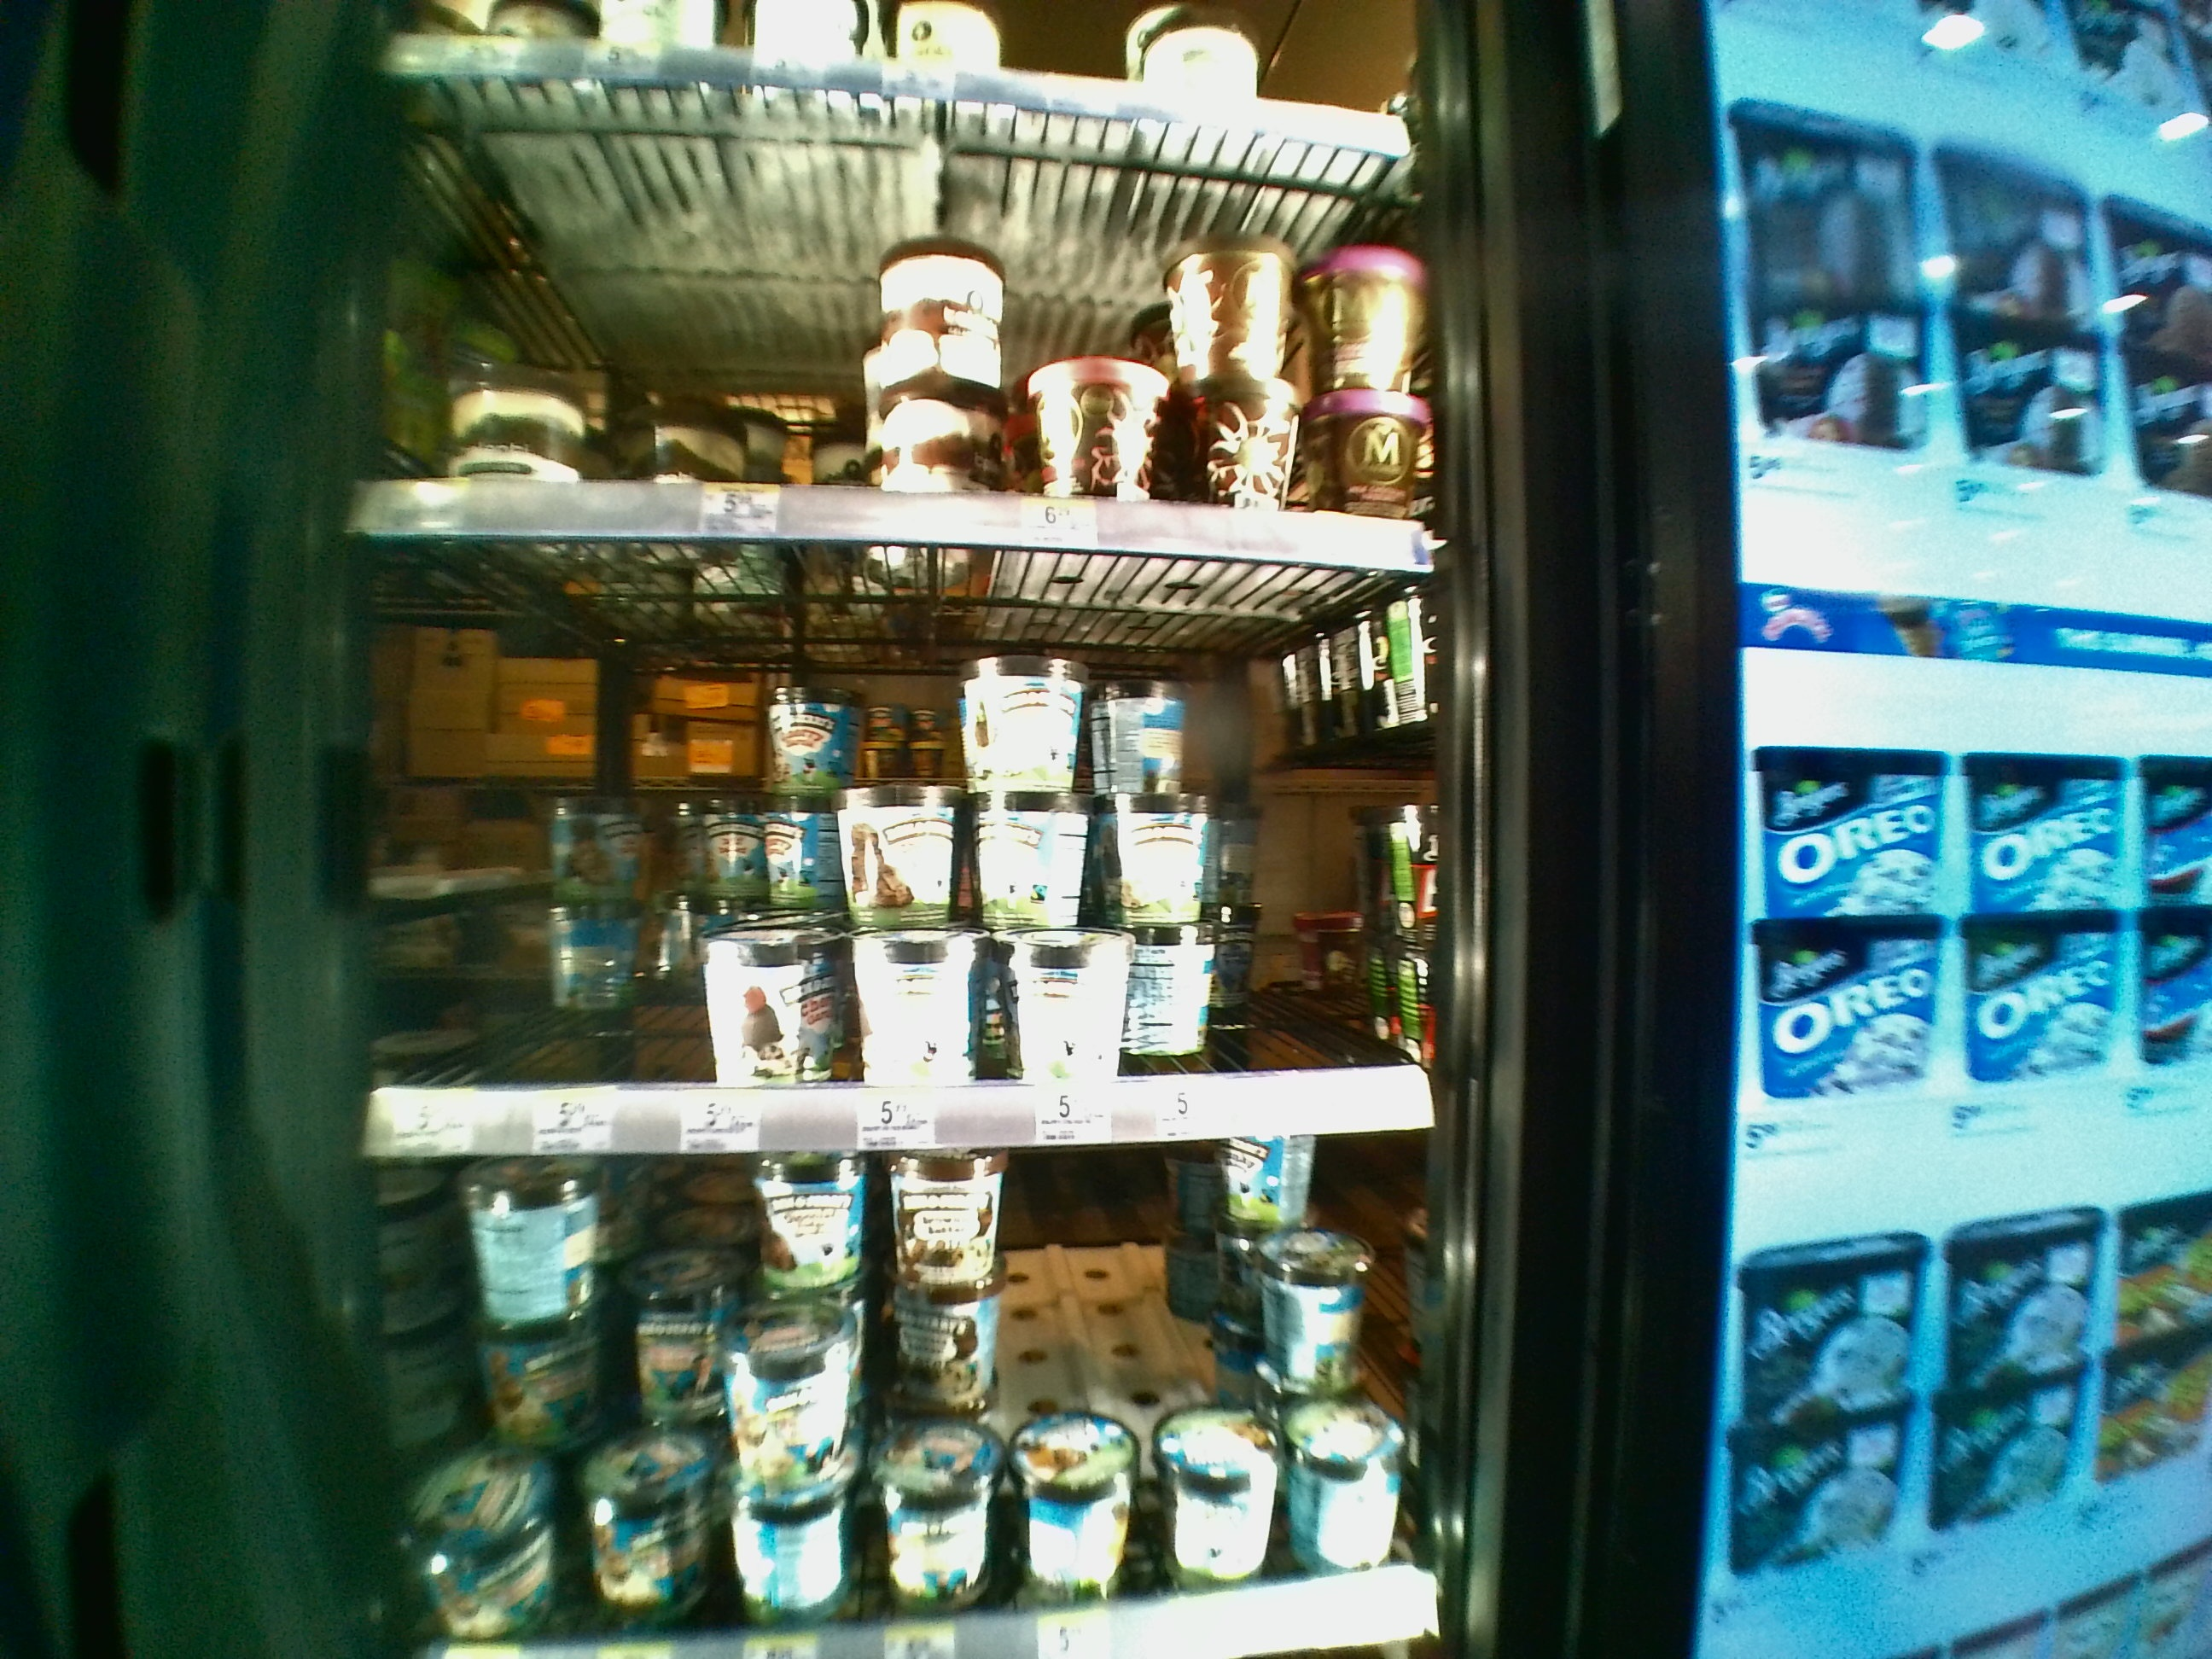shelf: (350, 556, 1440, 1150), (347, 77, 1411, 532)
